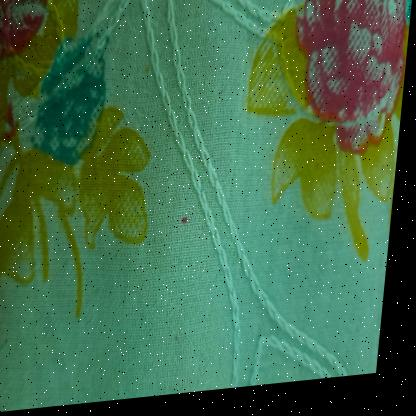spot: (182, 211, 199, 238), (178, 329, 192, 358)
